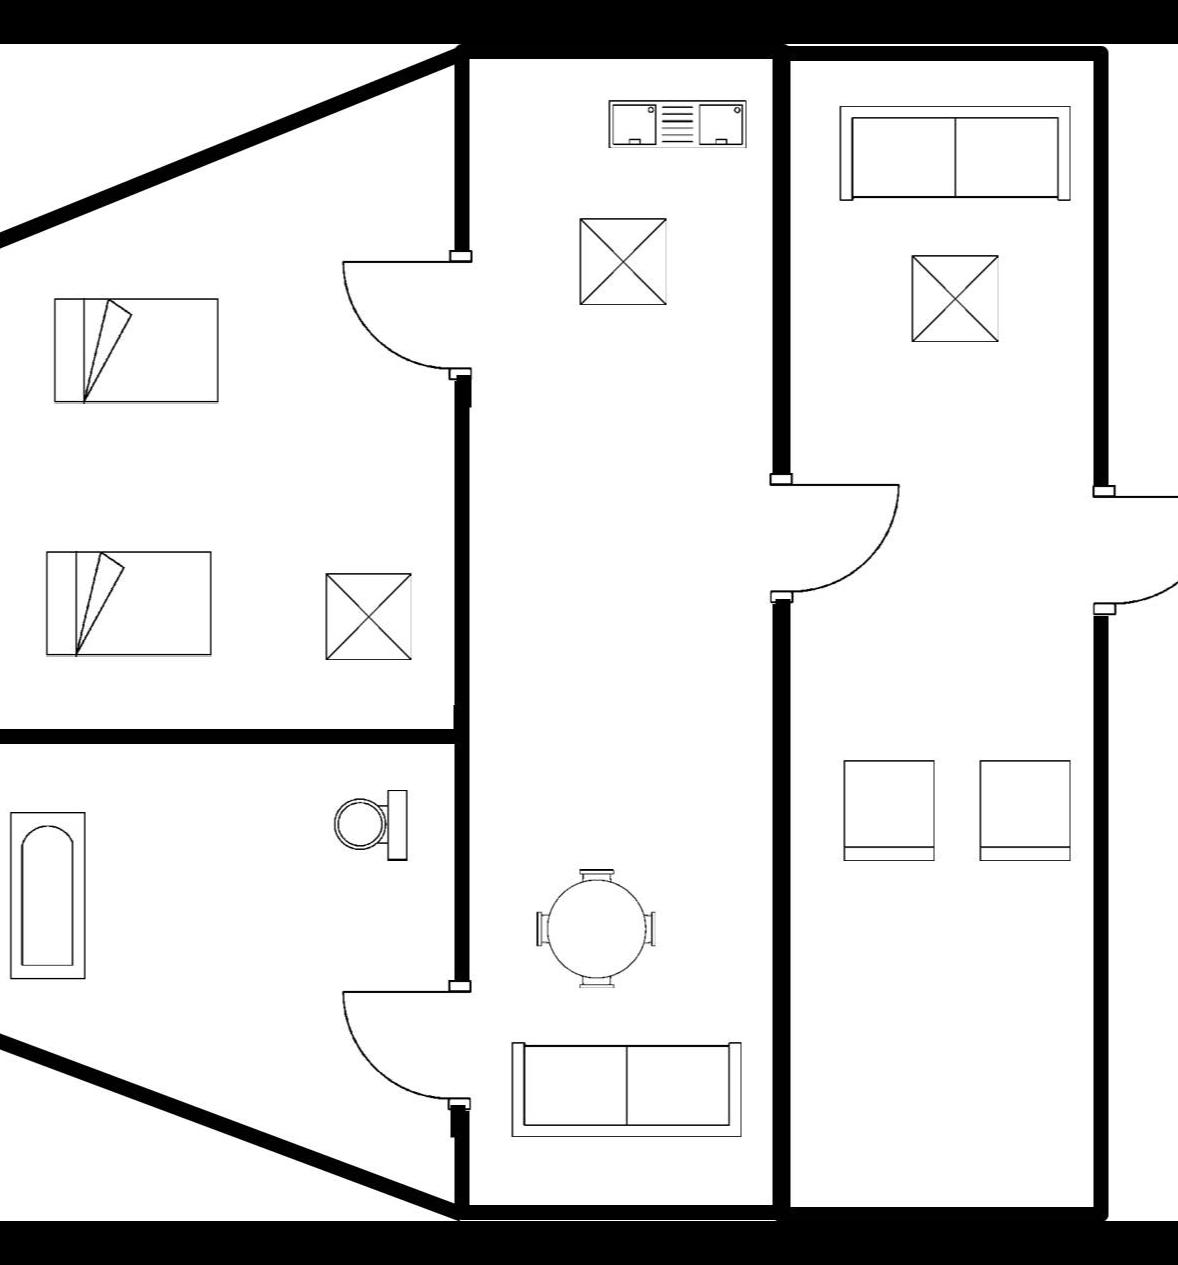sink: (599, 90, 757, 164)
